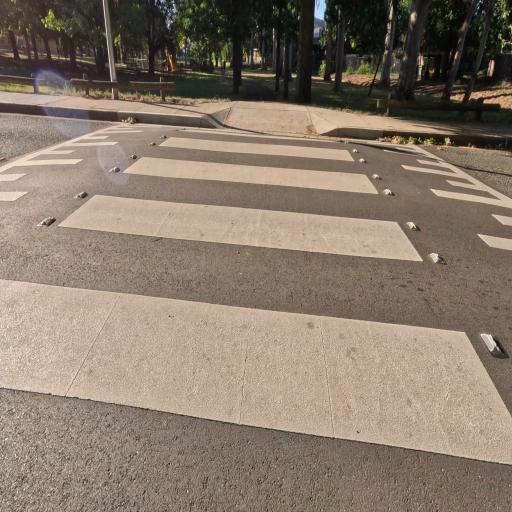kerb_cut: (204, 109, 338, 140)
